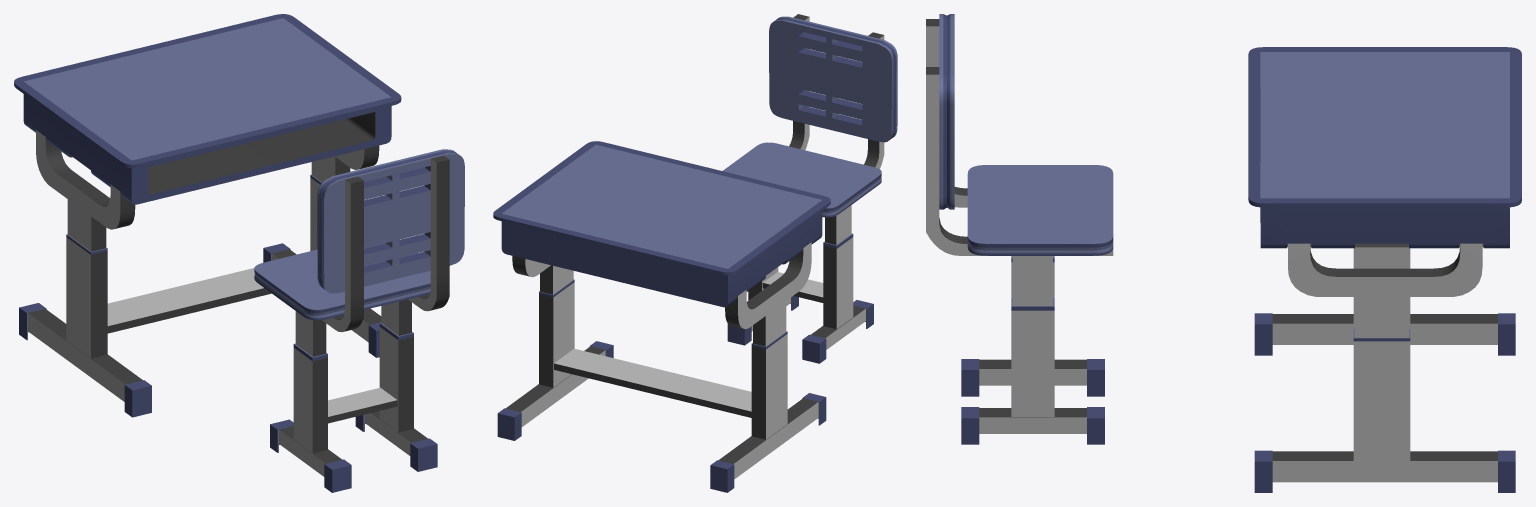
File: Studant Table Chair LEVEL-3-2.fbx
3 renders of one model, left to right at view 1: azimuth 30°, elevation 25°; view 2: azimuth 150°, elevation 25°; view 3: azimuth 270°, elevation 25°, orthographic. The views are drawn at different scales.
Visible parts, largest first — view 1: Studant Table Chair LEVEL-3-2; view 2: Studant Table Chair LEVEL-3-2; view 3: Studant Table Chair LEVEL-3-2.
Boxes of the visible parts, x1,y1,x2,y2 form: Studant Table Chair LEVEL-3-2: [14, 14, 464, 492]; Studant Table Chair LEVEL-3-2: [493, 14, 897, 492]; Studant Table Chair LEVEL-3-2: [926, 14, 1521, 492].
Bounding box in the file's own units: 7.27 × 7.99 × 11.71.
